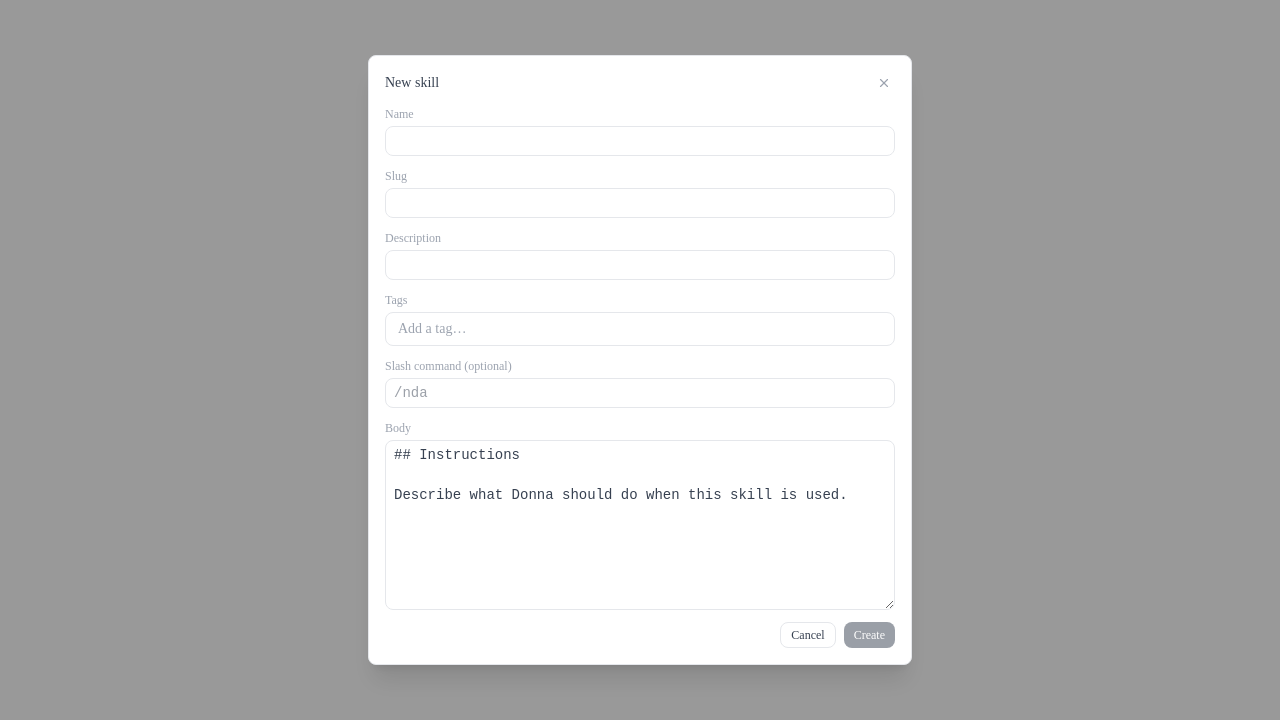
CreateSkillModal › posts to ?/create and derives the slug from the display name
Type "Contract Review" into the field labelled "Name" at (640, 141), box [385,126,895,156]
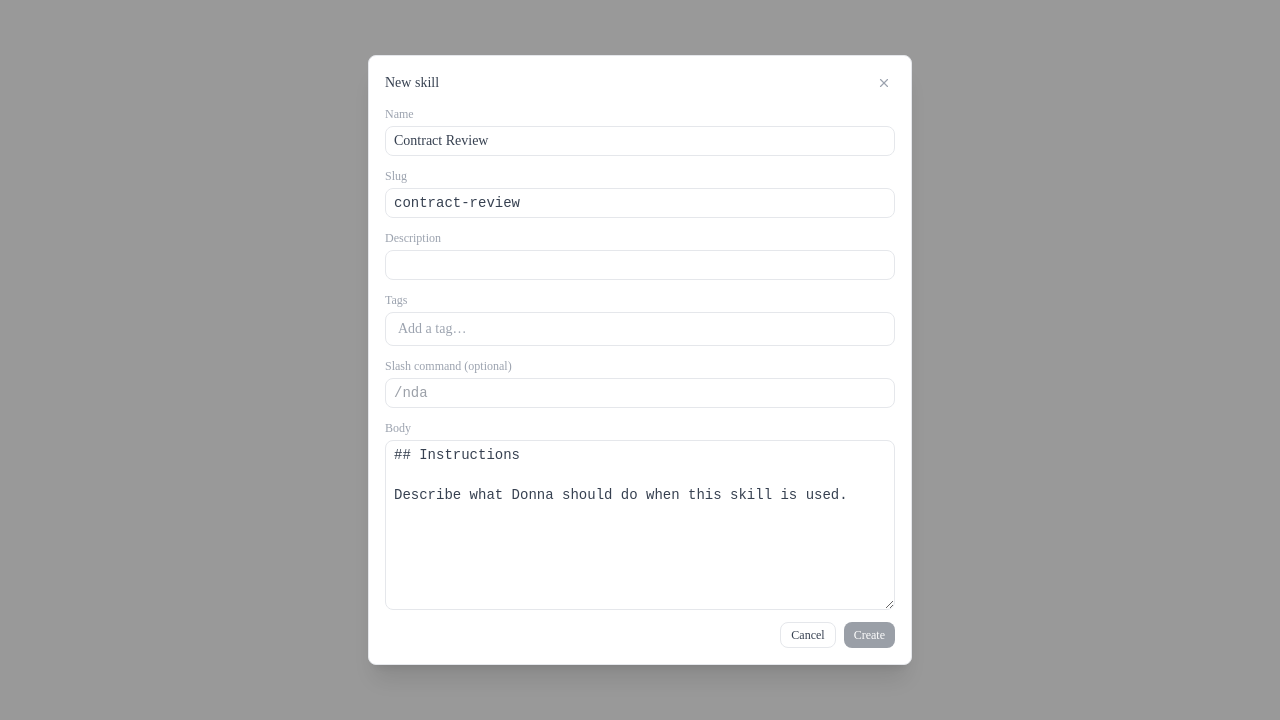
Expected: the field labelled "Slug" holds "contract-review", [385,188,895,218]
